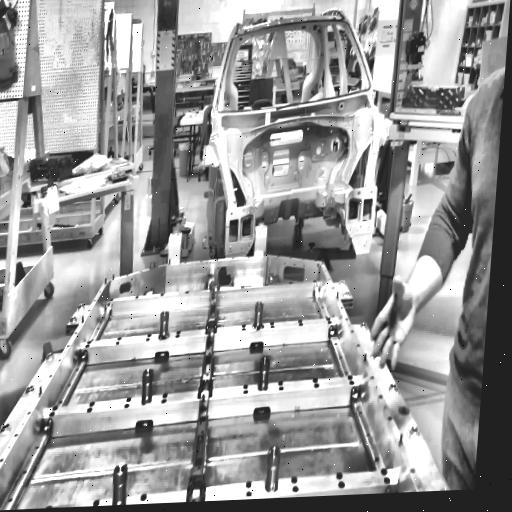b_casing: (0, 254, 449, 510)
